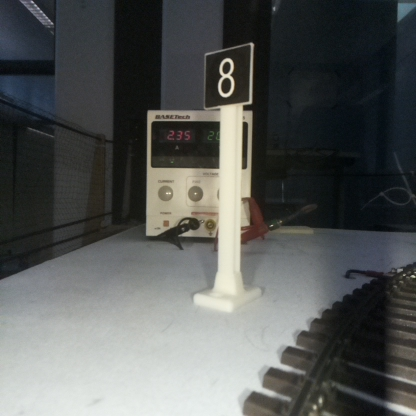black-info-8: (205, 46, 250, 306)
